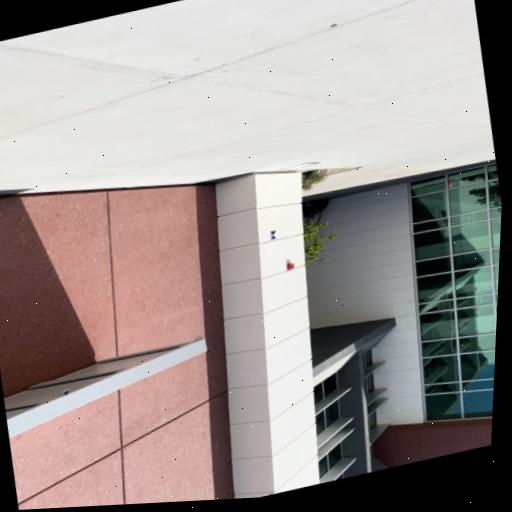target6: (269, 230, 276, 239)
